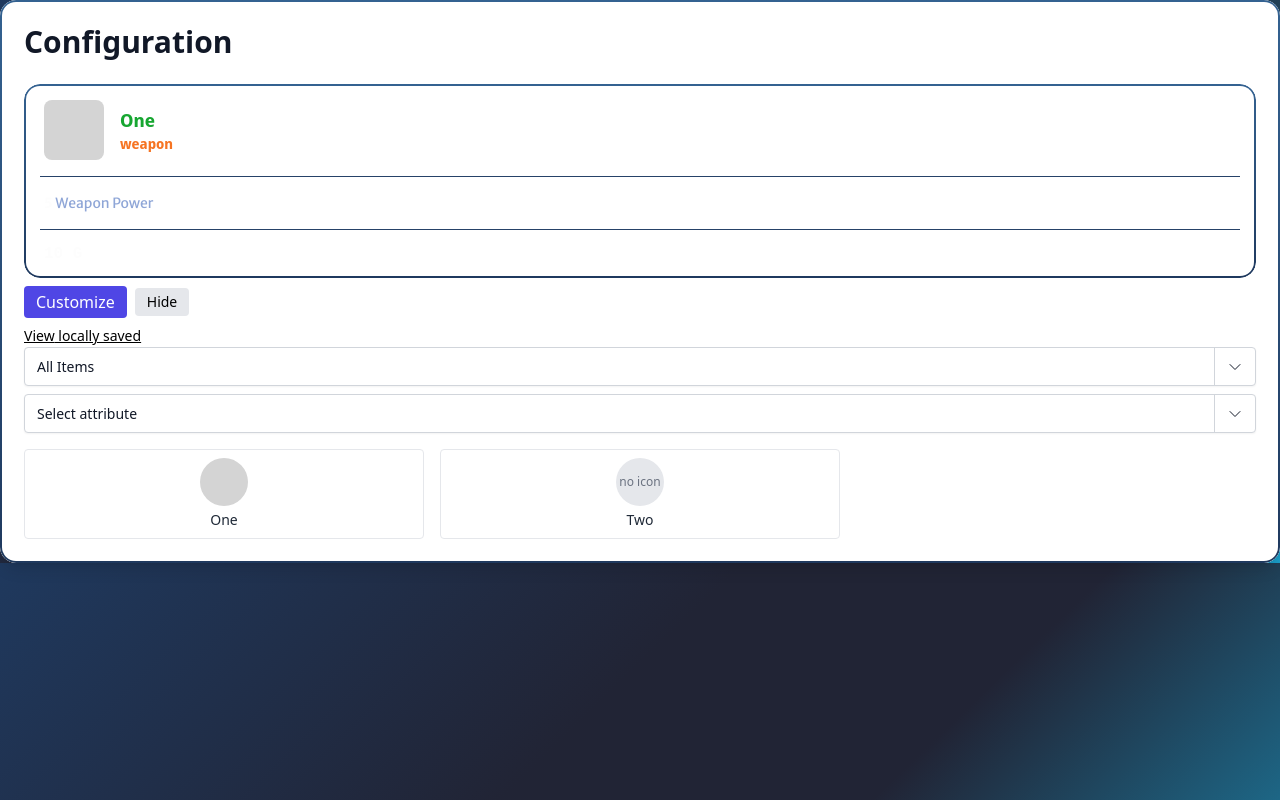
Scenario: ItemGallery › changes selected item on click
The width and height of the screenshot is (1280, 800).
Click the text "Two" at (640, 520), box 626,510 -> 654,530
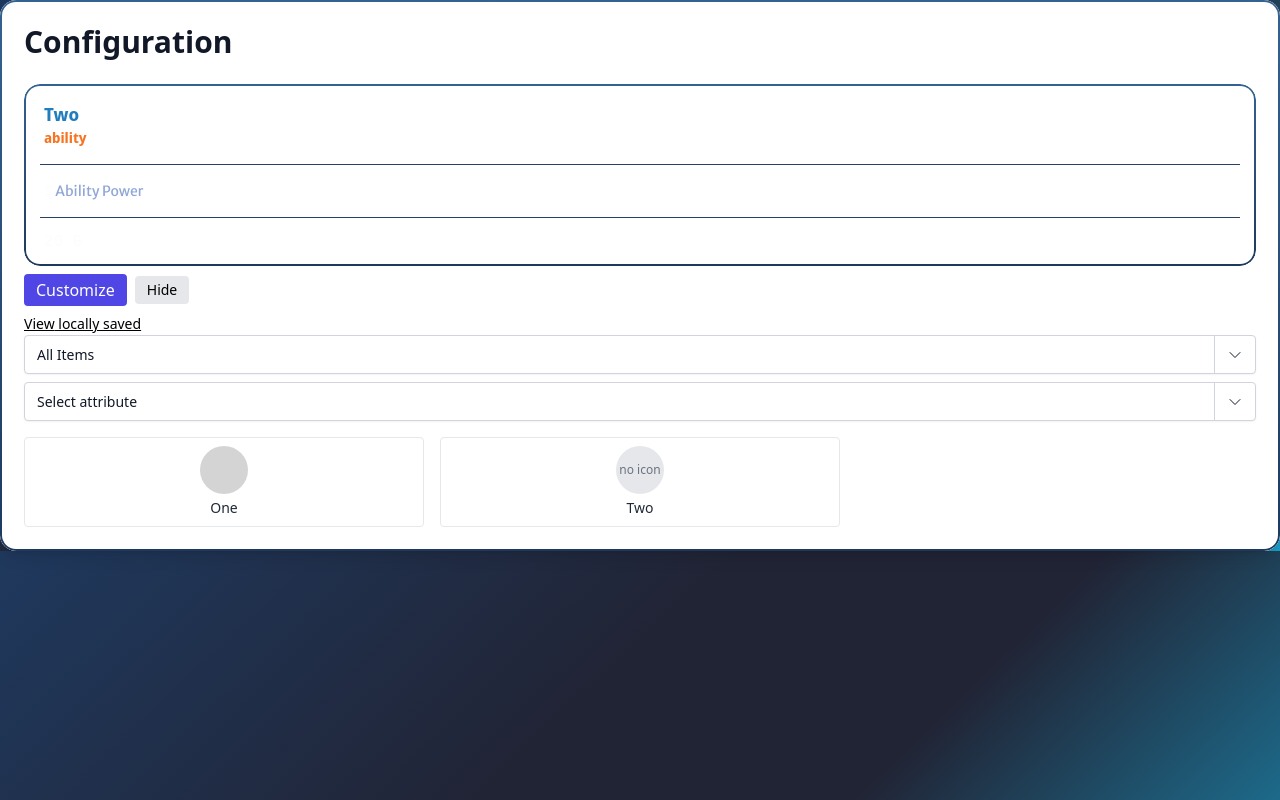
Expected: the text "ability" is shown, 44,128 -> 86,148
